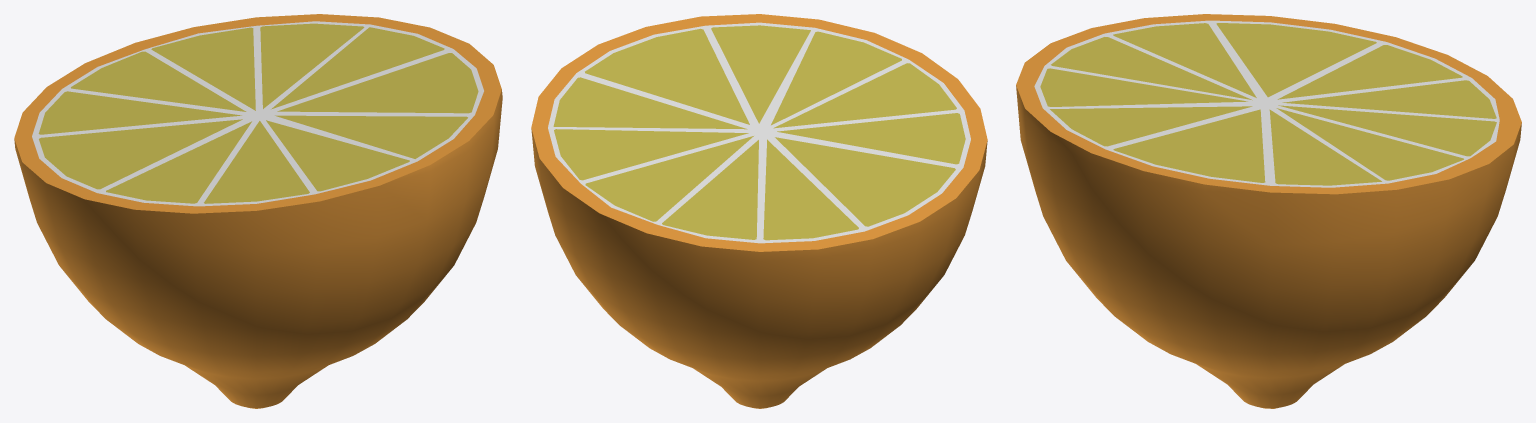
Rendered from Half_Lemon.fbx.
3 renders of one model, left to right at view 1: azimuth 30°, elevation 25°; view 2: azimuth 150°, elevation 25°; view 3: azimuth 270°, elevation 25°, orthographic. The views are drawn at different scales.
Visible parts, largest first — view 1: Lemon; view 2: Lemon; view 3: Lemon.
Boxes of the visible parts, left/top/right/bottom form: Lemon: left=14, top=14, right=502, bottom=408; Lemon: left=531, top=14, right=987, bottom=408; Lemon: left=1016, top=14, right=1521, bottom=408.
Size of the model in its own units: 1123 by 800 by 1123.
